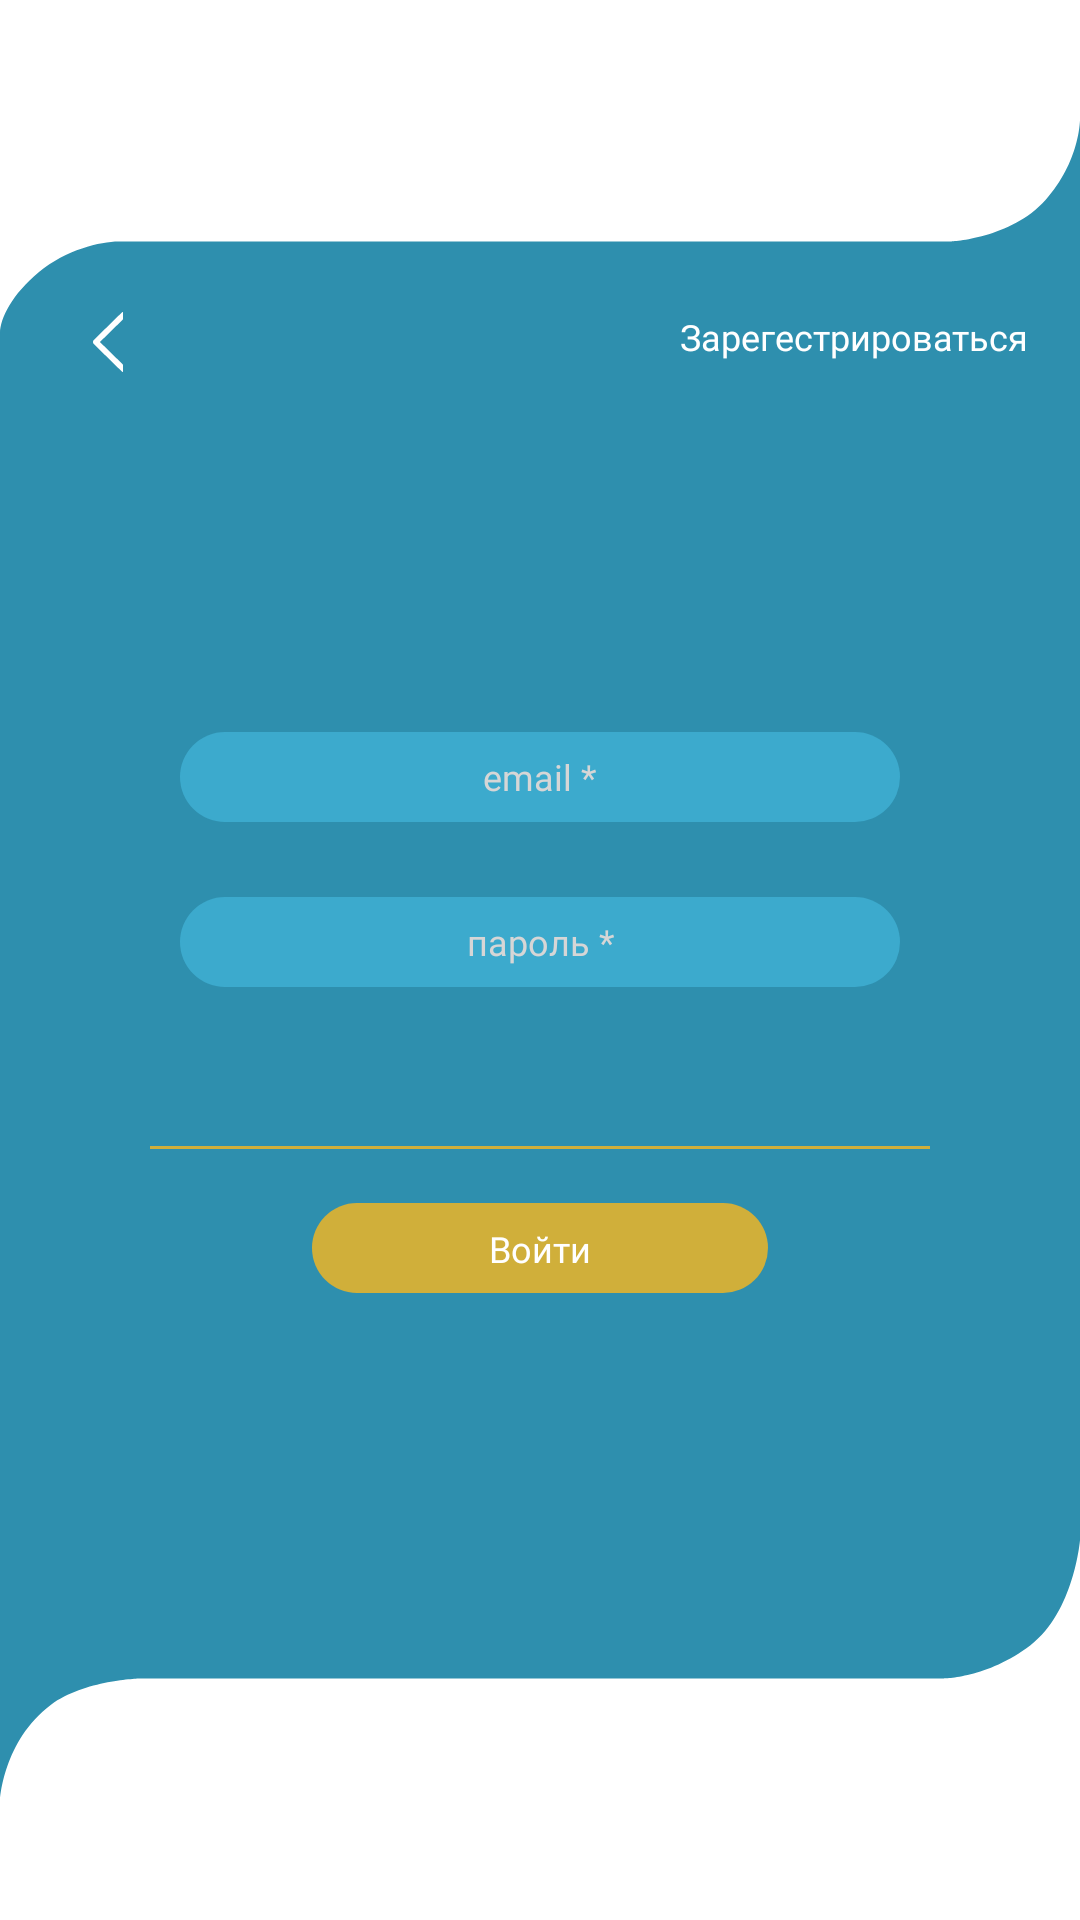

Named icons in this screenshot (1080*1920) and their centers, point (x, y):
arrow back: point (108, 342)
